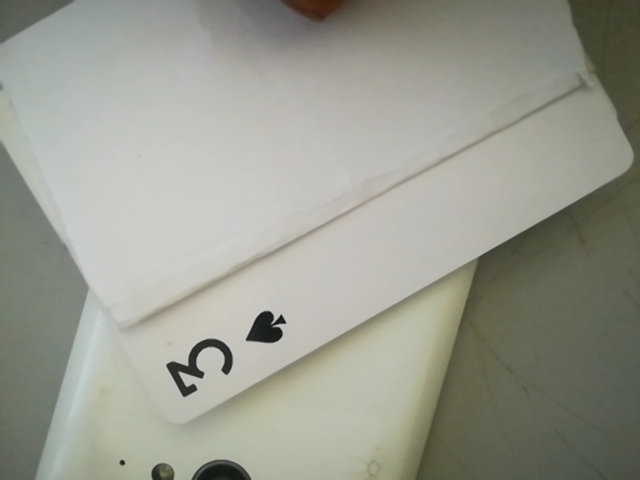ht 3: (138, 294, 302, 419)
